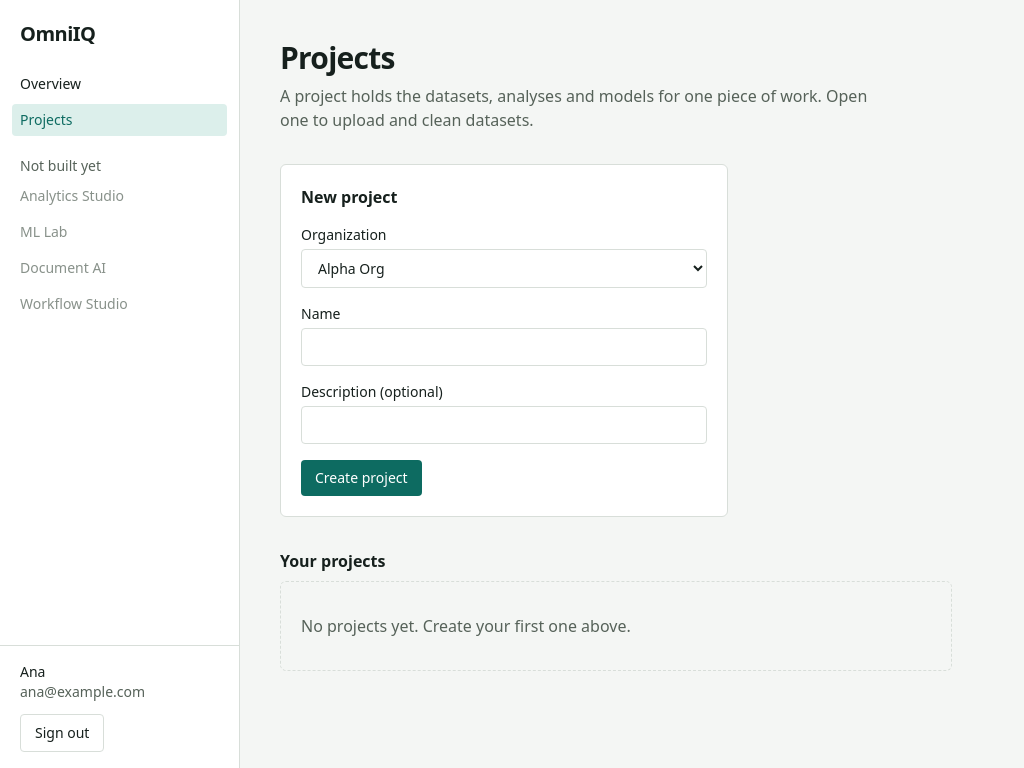
Test: ProjectsPage › creates a project and refreshes the list
Type "  Fresh  " into the field labelled "Name" at {"x": 504, "y": 347}, box [301, 328, 707, 366]
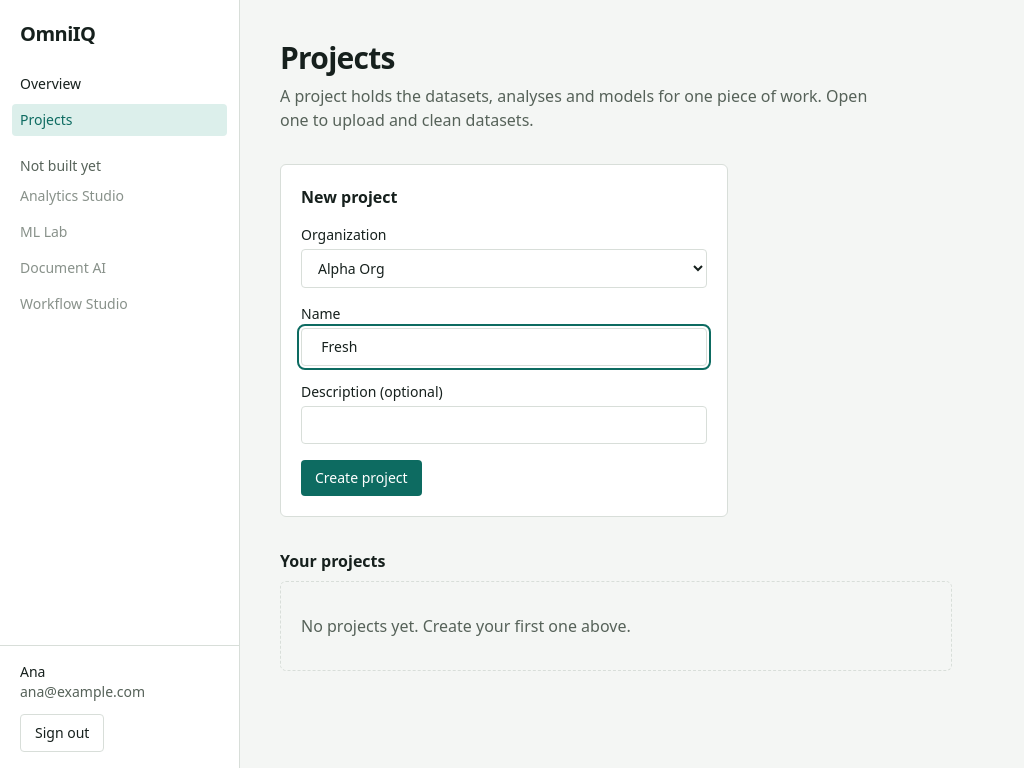
Click the button "Create project" at {"x": 361, "y": 478}, box [301, 460, 422, 496]
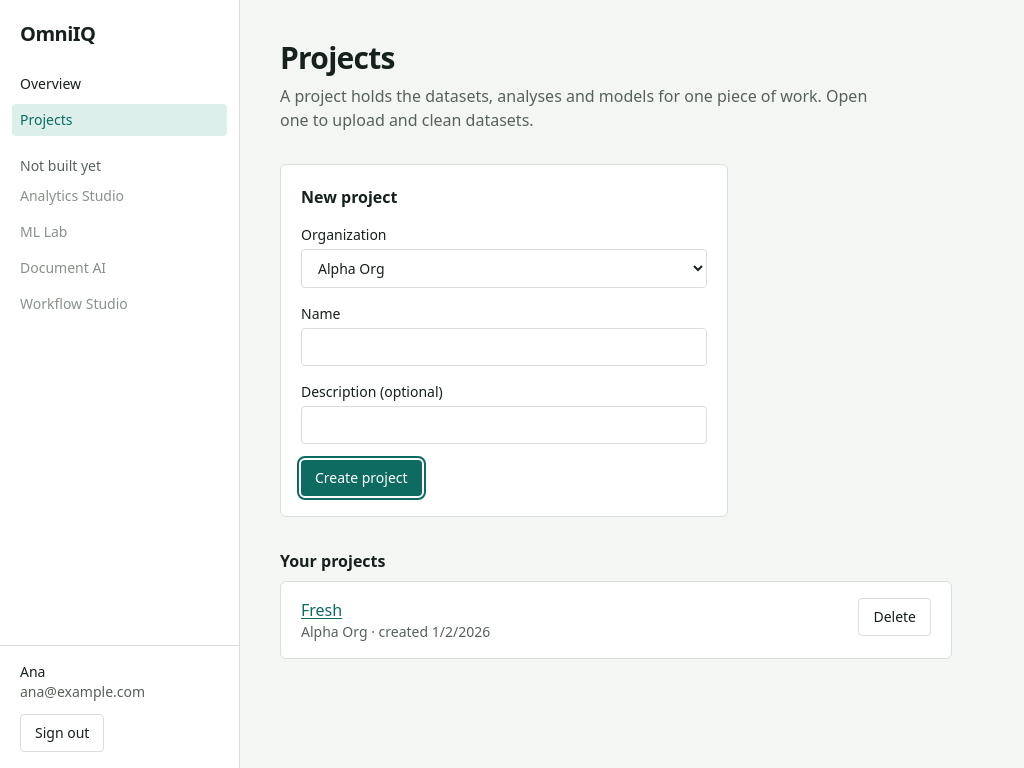
expect the button with aria-label "Delete Fresh" is shown: met, box [858, 598, 931, 636]
expect the field labelled "Name" is empty: met, box [301, 328, 707, 366]
